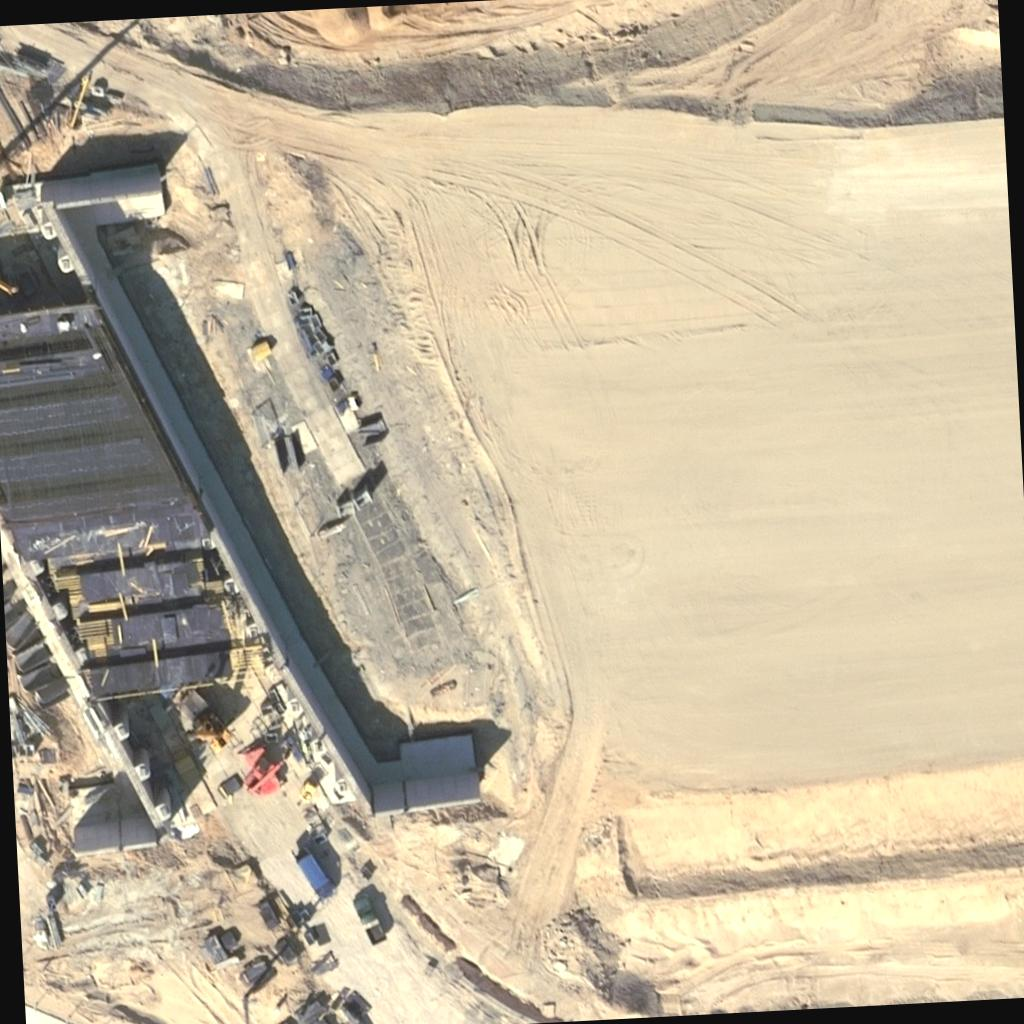ciezarowka: (289, 842, 340, 906)
koparka: (183, 710, 236, 758)
